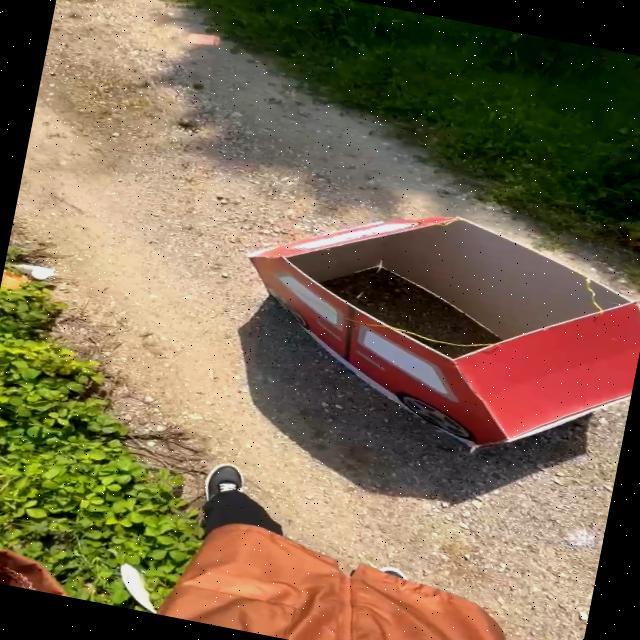red_car: (203, 165, 640, 491)
